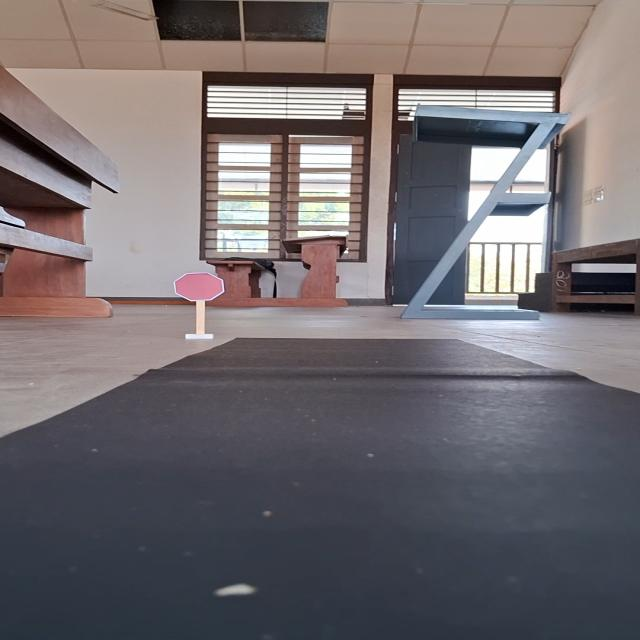Stop: (171, 272, 226, 302)
